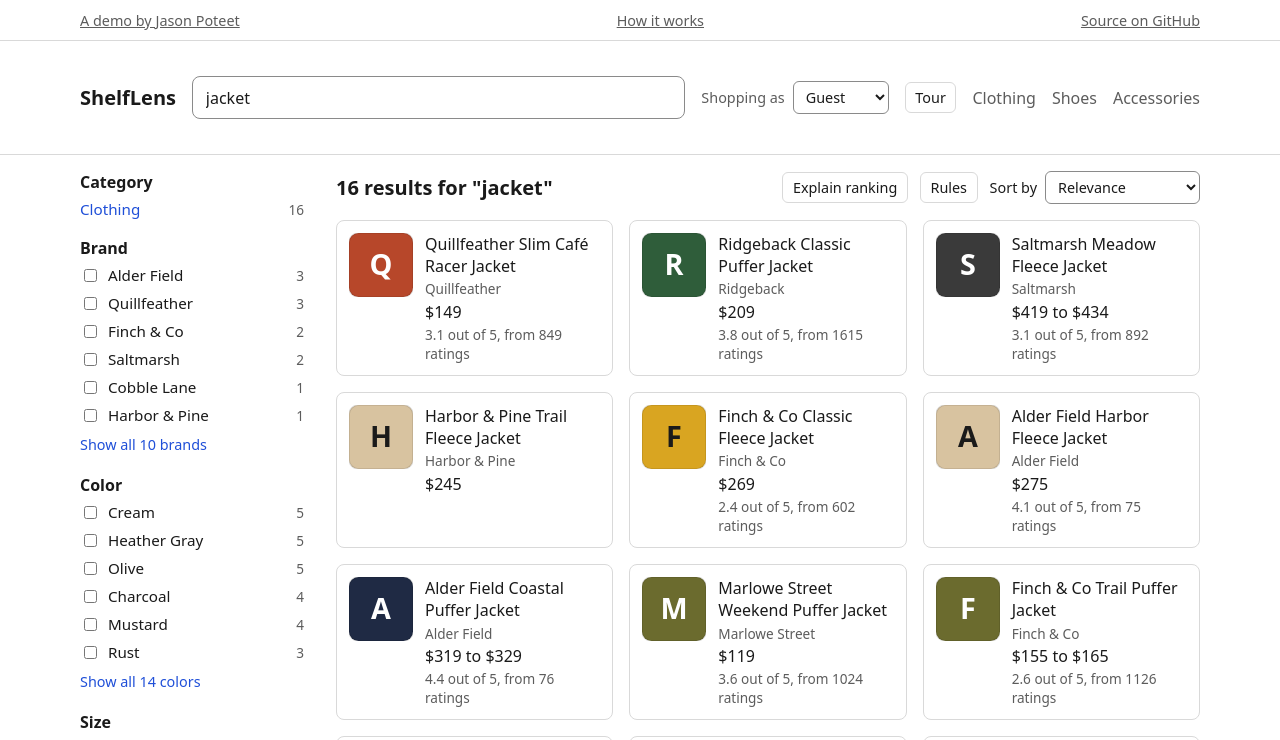
Test: counting › says one result in the singular, in the heading and the status
Expected: the heading "16 results for \"jacket\"" is shown, left=336, top=174, right=553, bottom=201
Click the checkbox labelled "Cobble Lane 1" at (90, 387), box left=84, top=381, right=97, bottom=394
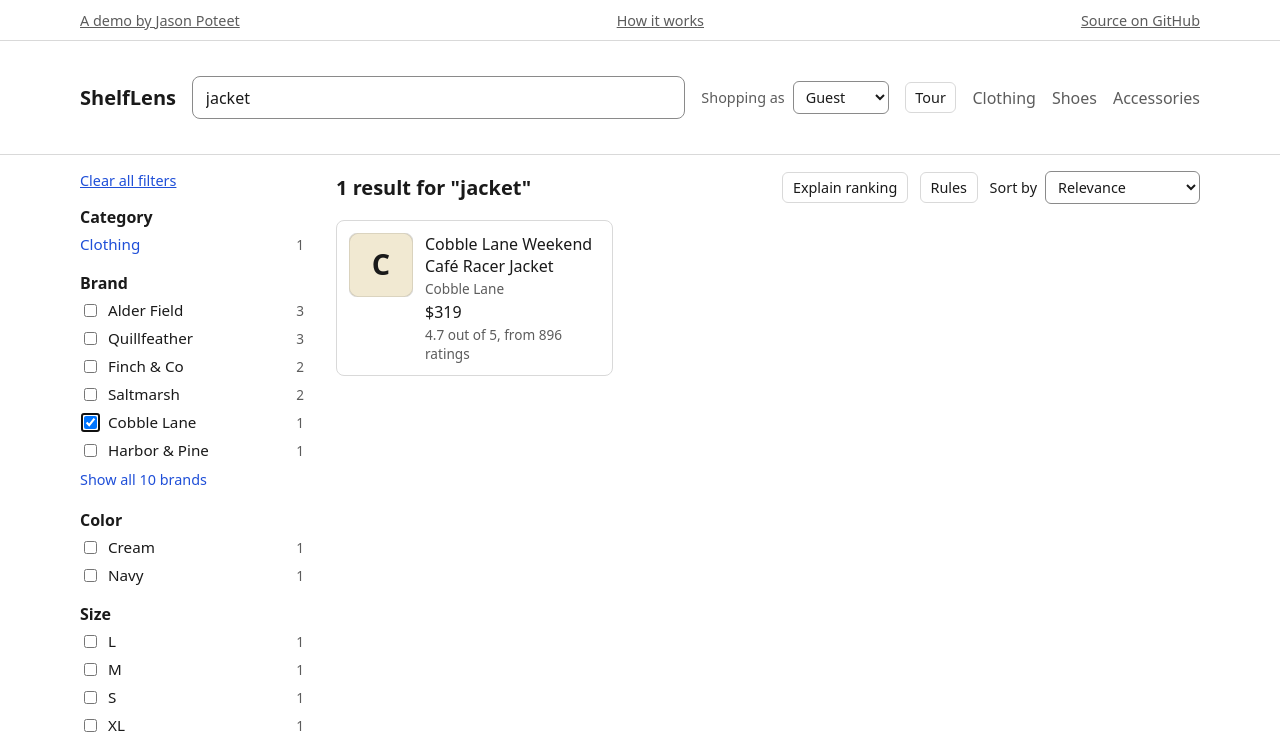
Expected: the heading reads "1 result for \"jacket\"", left=336, top=174, right=531, bottom=201
